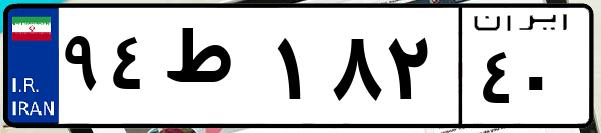0: (525, 38, 570, 115)
1: (270, 28, 330, 110)
2: (385, 28, 445, 110)
4: (475, 38, 525, 113), (110, 28, 158, 98)
8: (330, 28, 385, 110)
9: (57, 26, 110, 100)
ط: (158, 20, 270, 120)
